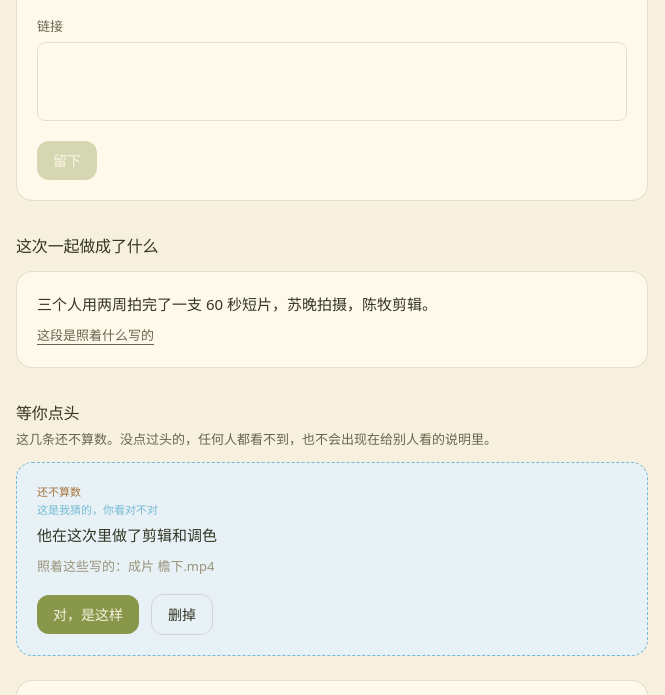
Test: 这次一起做成了什么 › 点开能看它照着什么写的
(page scrolled)
Expected: the text "三个人用两周拍完了一支 60 秒短片，苏晚拍摄，陈牧剪辑。" is shown, left=37, top=294, right=437, bottom=314
Expected: the text "· 成片 檐下.mp4" is not shown
Step 1. Click the button "这段是照着什么写的" → click(96, 336), box left=37, top=325, right=154, bottom=346
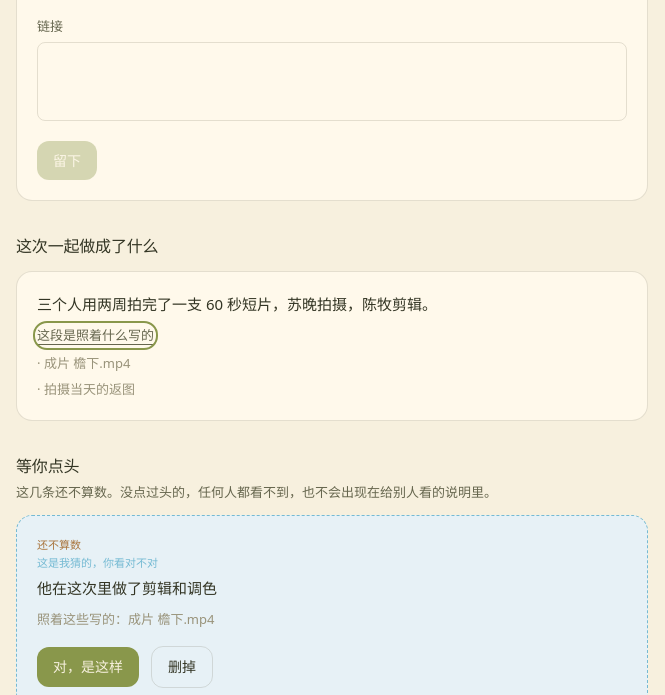
Expected: the list item "· 成片 檐下.mp4" is shown, left=37, top=354, right=130, bottom=372
Expected: the list item "· 拍摄当天的返图" is shown, left=37, top=380, right=135, bottom=398
